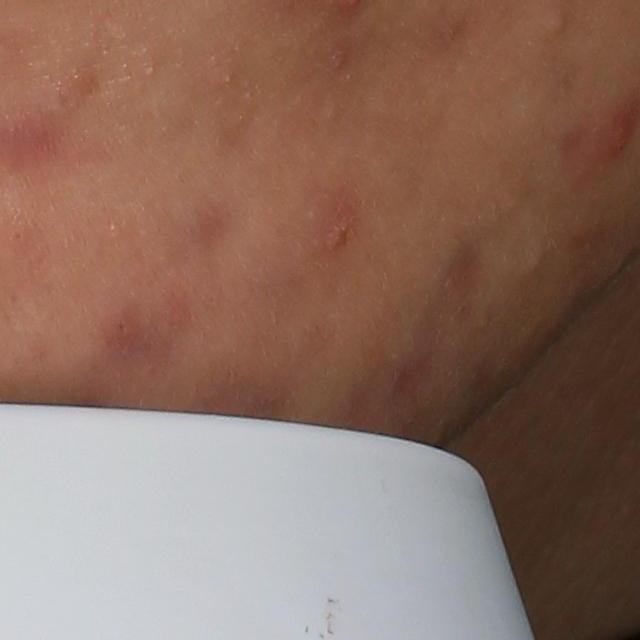comedo: (539, 9, 568, 36), (525, 248, 545, 274)
